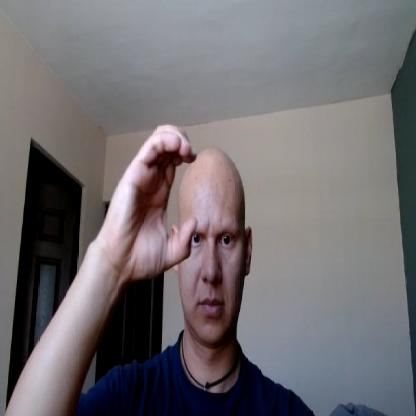C: (112, 123, 199, 278)
